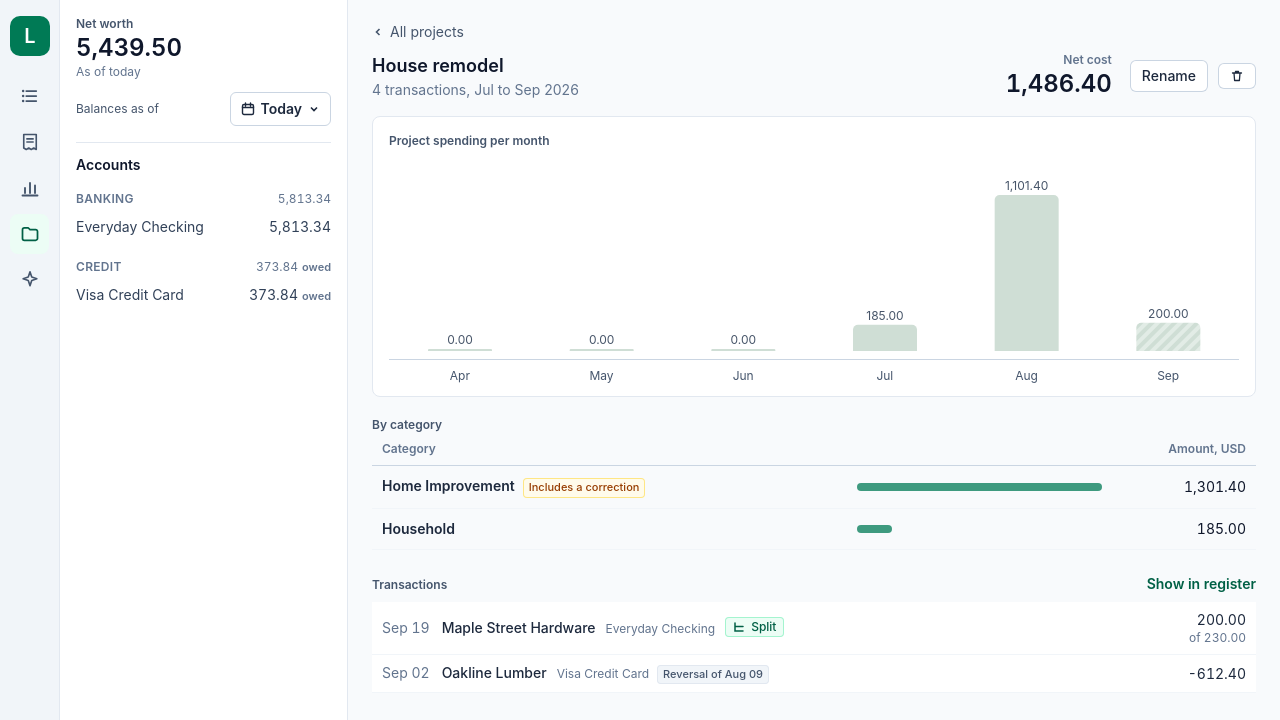
Test: project page › renders the 409 detail when a project in use is deleted, with a way to its transactions
Click the button named "Delete project". click: {"x": 1237, "y": 76}
box: x1=1218 y1=63 x2=1256 y2=89
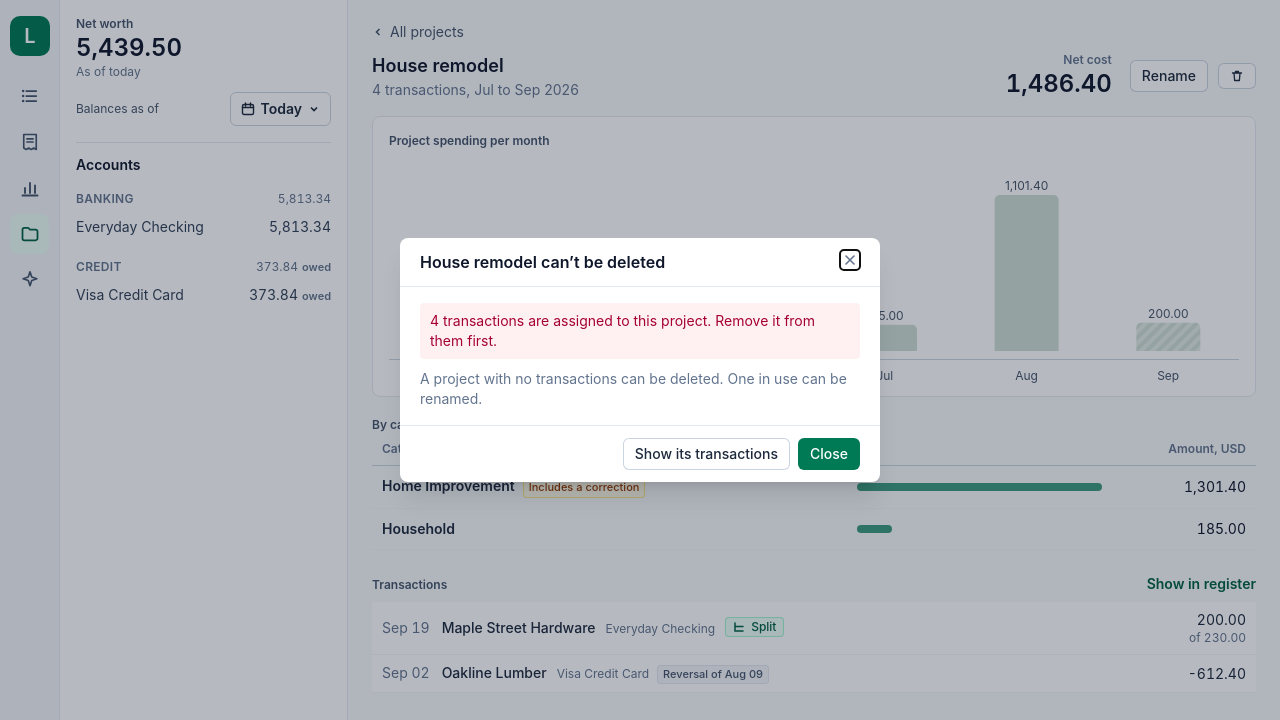
Expected: the message shows "4 transactions are assigned to this project.", x1=430 y1=312 x2=815 y2=349
Expected: the button "Show its transactions" is shown, x1=623 y1=438 x2=790 y2=470
